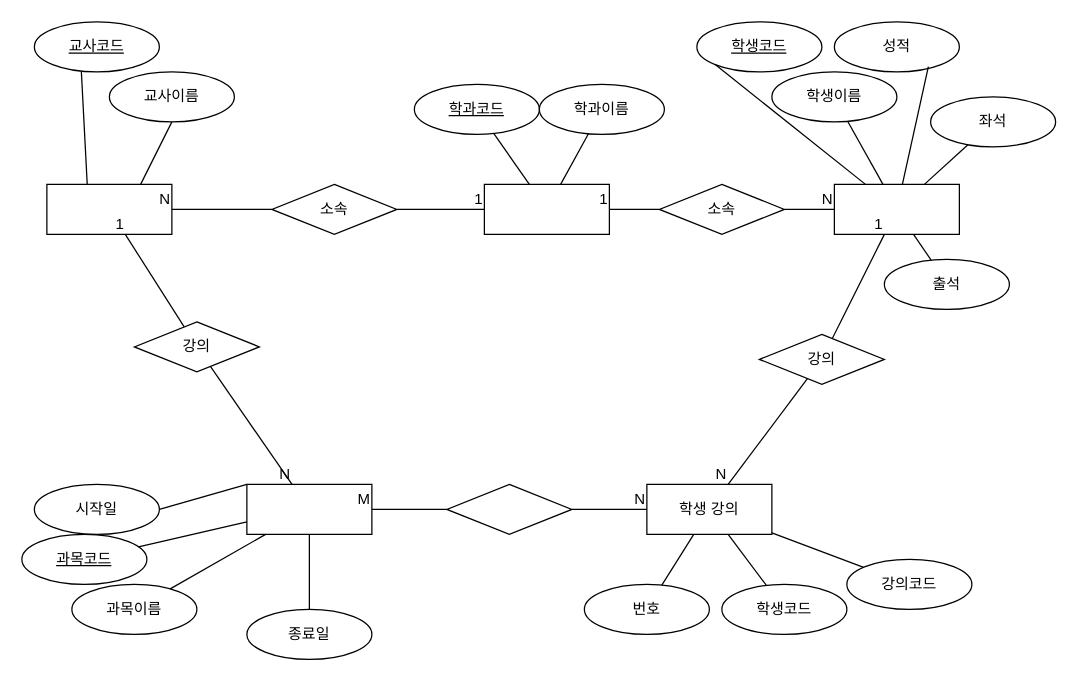
The diagram is 1078 pixels wide and 681 high, and some of its shapes have lost their labels. The centre of each missing label's shape, as x and y in pixels:
"과목" goes at point (309, 508).
"교사" goes at point (109, 208).
"수강" goes at point (509, 508).
"학과" goes at point (546, 208).
"학생" goes at point (896, 208).
